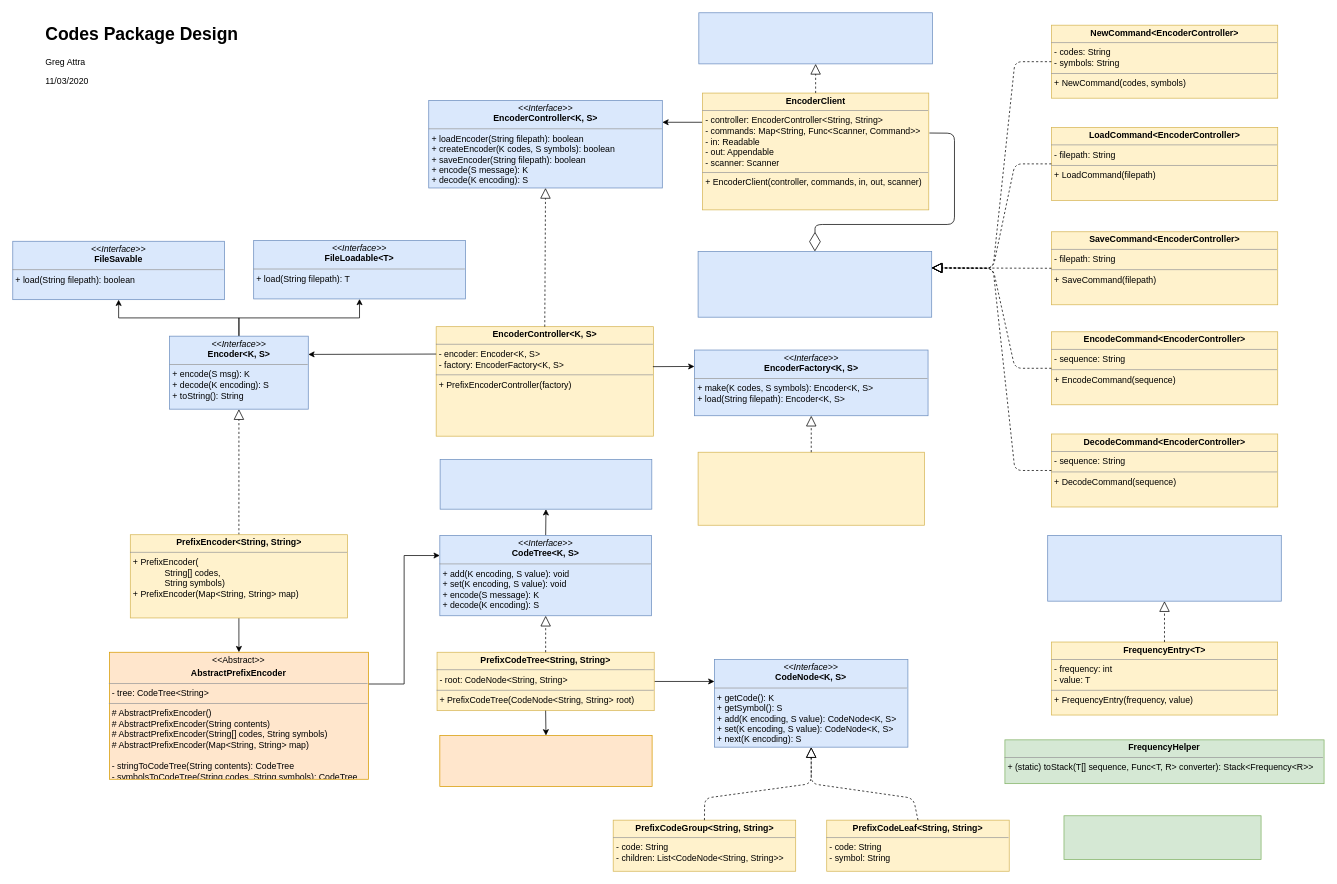
Some shapes in this 1337 by 884 pixel diagram are drawn without their labels. Here are the shapes that lost their labels. From the top down, the centre of each, then its label:
At point 815,38: "<<Interface>> Client + run(): void".
At point 814,284: "<<Interface>> Command<T> + execute(T receiver): void".
At point 545,484: "<<Interface>> Mapper<K, V> + toMap(): Map<K, V>".
At point 810,488: "PrefixEncoderFactory - sequence: String + DecodeCommand(sequence)".
At point 1164,568: "<<Interface>> Frequency<T> + getFrequency(): int + getValue(): T".
At point 545,761: "AbstractCodeNode<K, S> + equals(Object o): boolean + hashCode(): int".
At point 1162,837: "StringHelper + distinctCharacters(String sequence): String".
